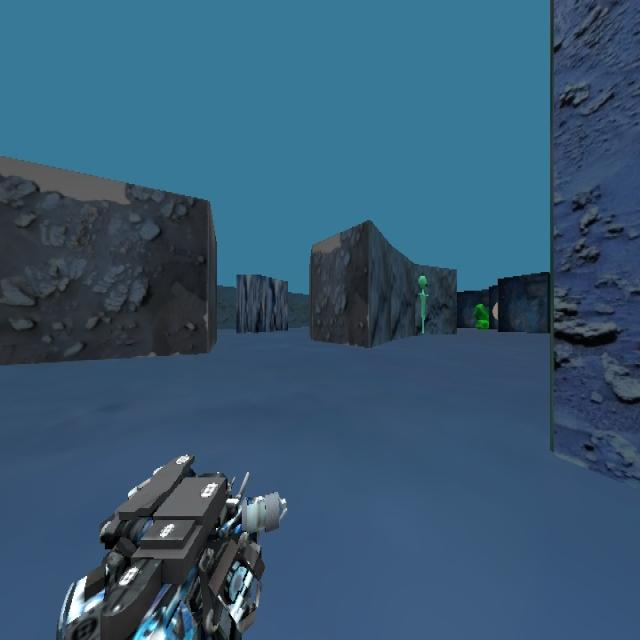Alien: (416, 274, 428, 334)
Diamon: (463, 292, 491, 344)
